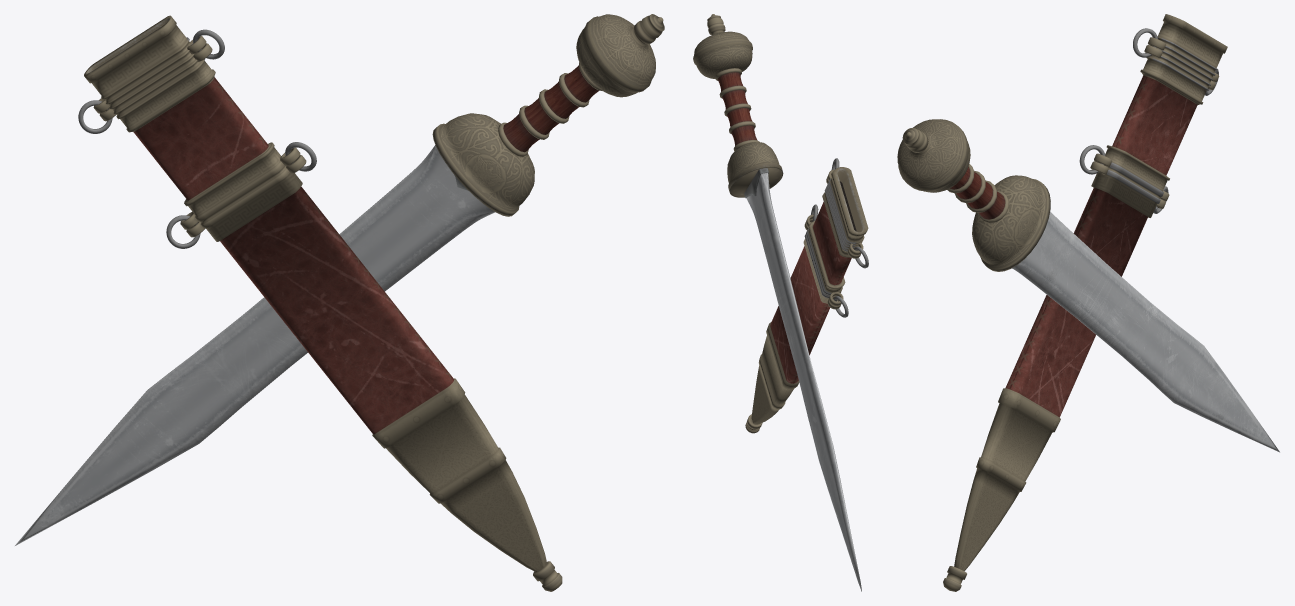
Rendered from gladius.glb.
The picture shows the model from 3 angles, left to right: view 1: azimuth 30°, elevation 25°; view 2: azimuth 150°, elevation 25°; view 3: azimuth 270°, elevation 25°; orthographic projection. The views are drawn at different scales.
Parts seen in each view (by area): view 1: Sheath003_Blade_0; view 2: Sheath003_Blade_0; view 3: Sheath003_Blade_0.
Part boxes in pixels (x1,y1,x2,y2): Sheath003_Blade_0: (15, 14, 664, 591); Sheath003_Blade_0: (693, 14, 868, 591); Sheath003_Blade_0: (897, 14, 1279, 591).
Size of the model in its own units: 0.6854 by 0.8694 by 0.5992.
1 material, 1 textured.
